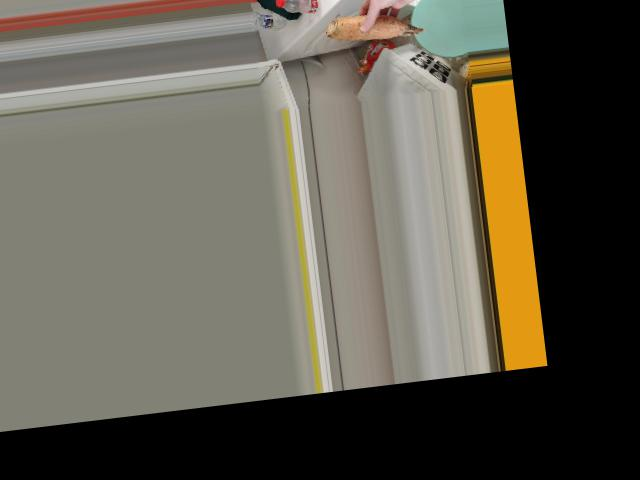sweet_potato: (319, 1, 426, 52)
